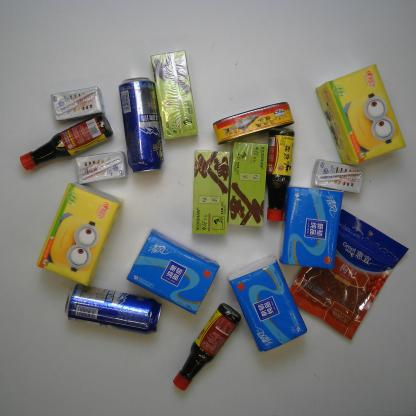Alcohol: (60, 279, 166, 338), (116, 74, 170, 174)
Canned Food: (212, 99, 305, 143)
Dried Fruit: (296, 204, 410, 341)
Instant Drink: (146, 50, 204, 141), (228, 142, 275, 230), (190, 147, 234, 238)
Milk: (68, 150, 136, 188), (308, 158, 370, 198), (44, 85, 110, 120)
Seasoner: (172, 299, 251, 399), (18, 115, 118, 169), (257, 127, 305, 224)
Tissue: (32, 183, 123, 286), (128, 226, 222, 325), (228, 257, 313, 366), (318, 59, 404, 164), (282, 186, 346, 269)
